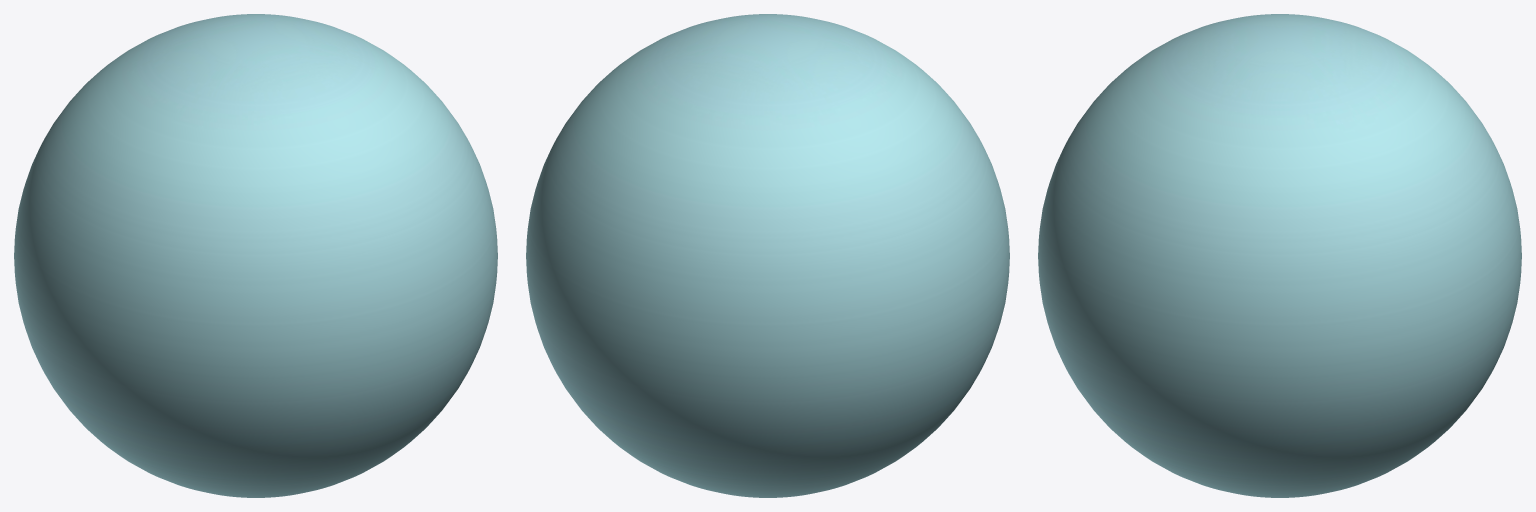
File: uranus.glb
3 renders of one model, left to right at view 1: azimuth 30°, elevation 25°; view 2: azimuth 150°, elevation 25°; view 3: azimuth 270°, elevation 25°, orthographic.
Bounding box in the file's own units: 2 × 2 × 2.
Materials: 1 (1 with a texture image).
